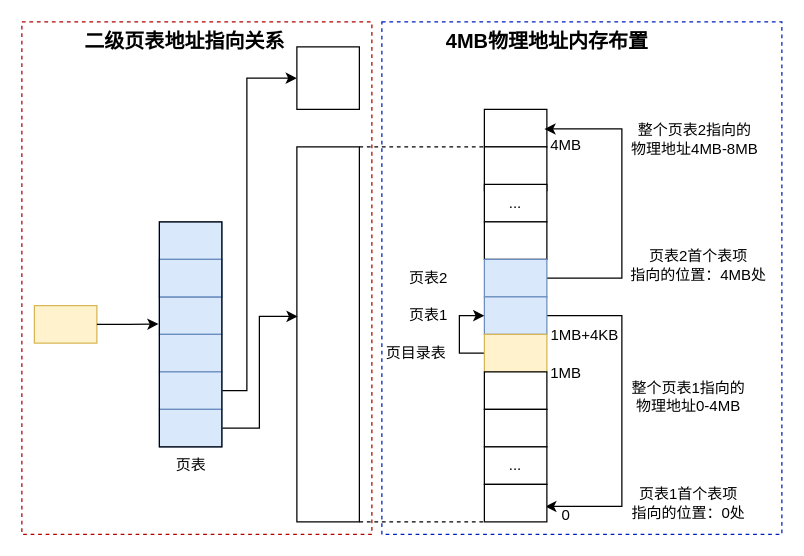
Image size: 804x556. Some labels were removed from this diagram. Here are the shapes that lost their labels. From the top down, the centre of each, then its label:
[327,77]: 4MB 空间
[327,334]: 4MB 物理 地址 空间
